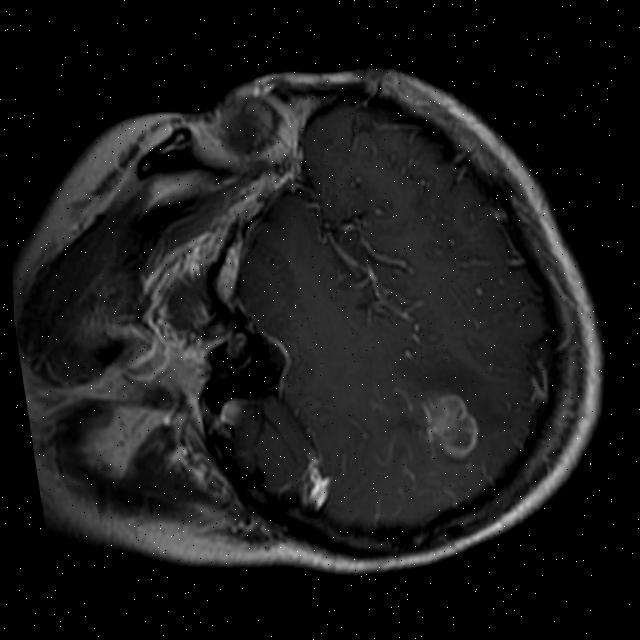Glioma: (422, 388, 483, 463)
